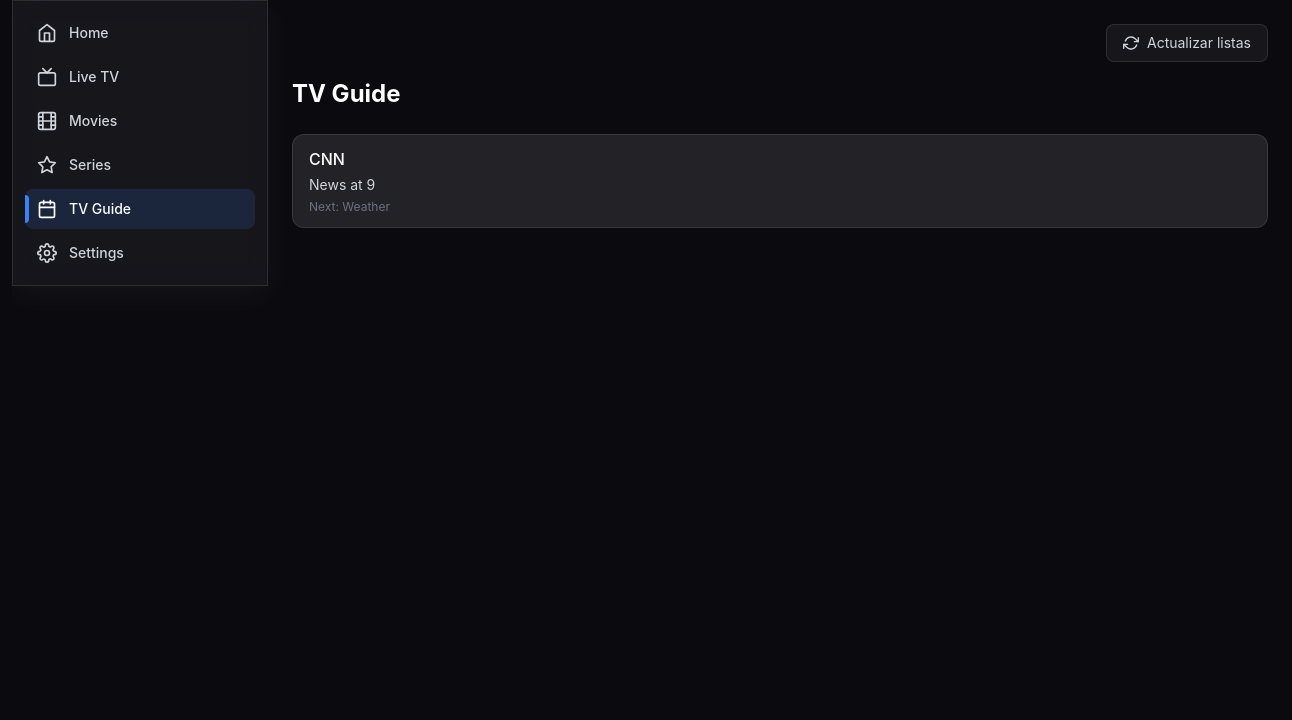
Test: EpgPage FA-11 › lists now/next and plays the selected live channel
The width and height of the screenshot is (1292, 720).
Check: the text "News at 9" is shown, box [309,175,375,195]
Check: the text "Next: Weather" is shown, box [309,199,390,215]
What coordinates should you click on to do the following:
click the button with test id "epg-row-3"
I would click on:
 (327, 159)
Its box is [292,134,1268,228].
(page scrolled)
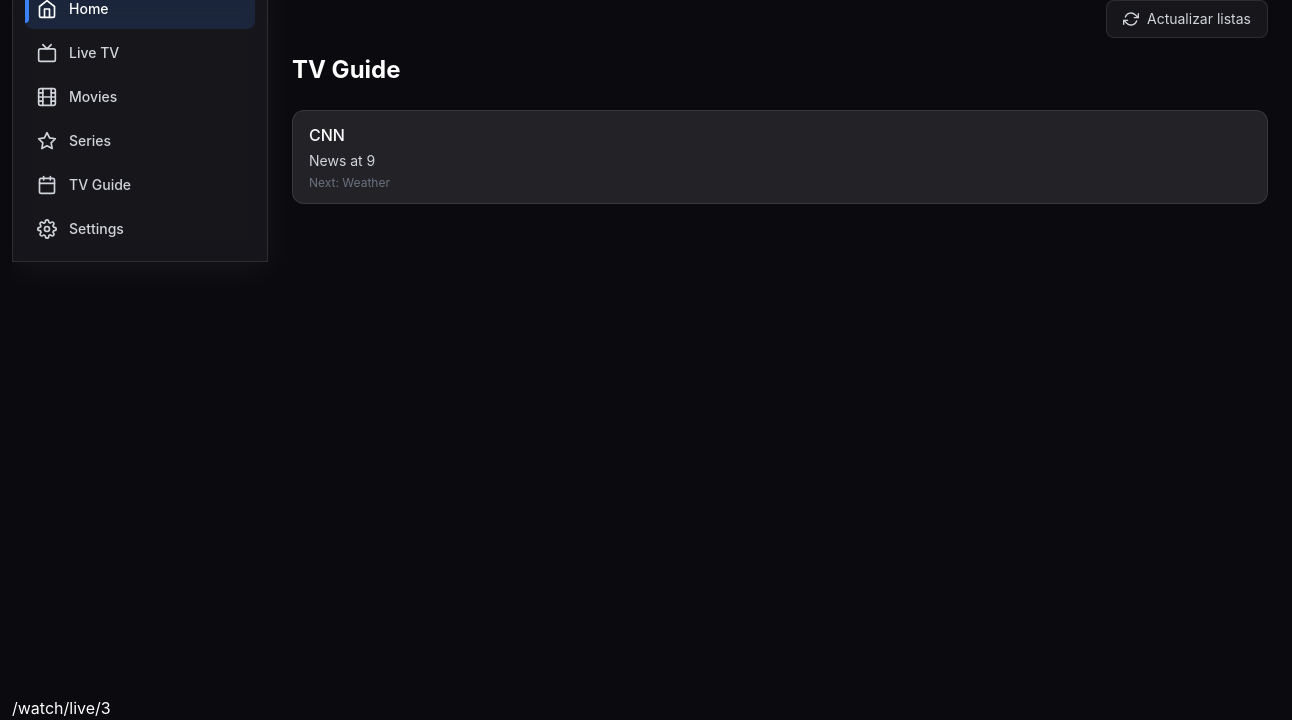
Check: the text with test id "location-pathname" reads "/watch/live/3", box [12,698,111,718]
